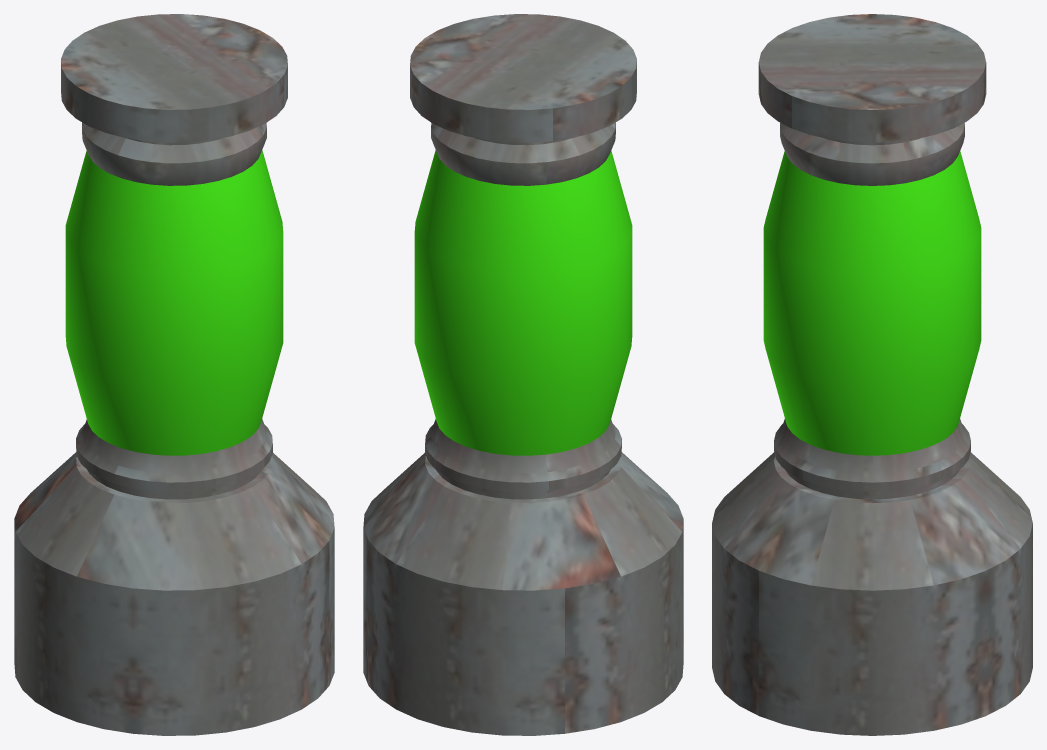
File: EB_ReactorOn.fbx
3 renders of one model, left to right at view 1: azimuth 30°, elevation 25°; view 2: azimuth 150°, elevation 25°; view 3: azimuth 270°, elevation 25°, orthographic.
Parts seen in each view (by area): view 1: ReactorOn; view 2: ReactorOn; view 3: ReactorOn.
Part boxes in pixels (x1=…): ReactorOn: x1=14, y1=14, x2=334, y2=735; ReactorOn: x1=363, y1=14, x2=683, y2=735; ReactorOn: x1=712, y1=14, x2=1032, y2=735.
Bounding box in the file's own units: 325 × 679 × 325.
